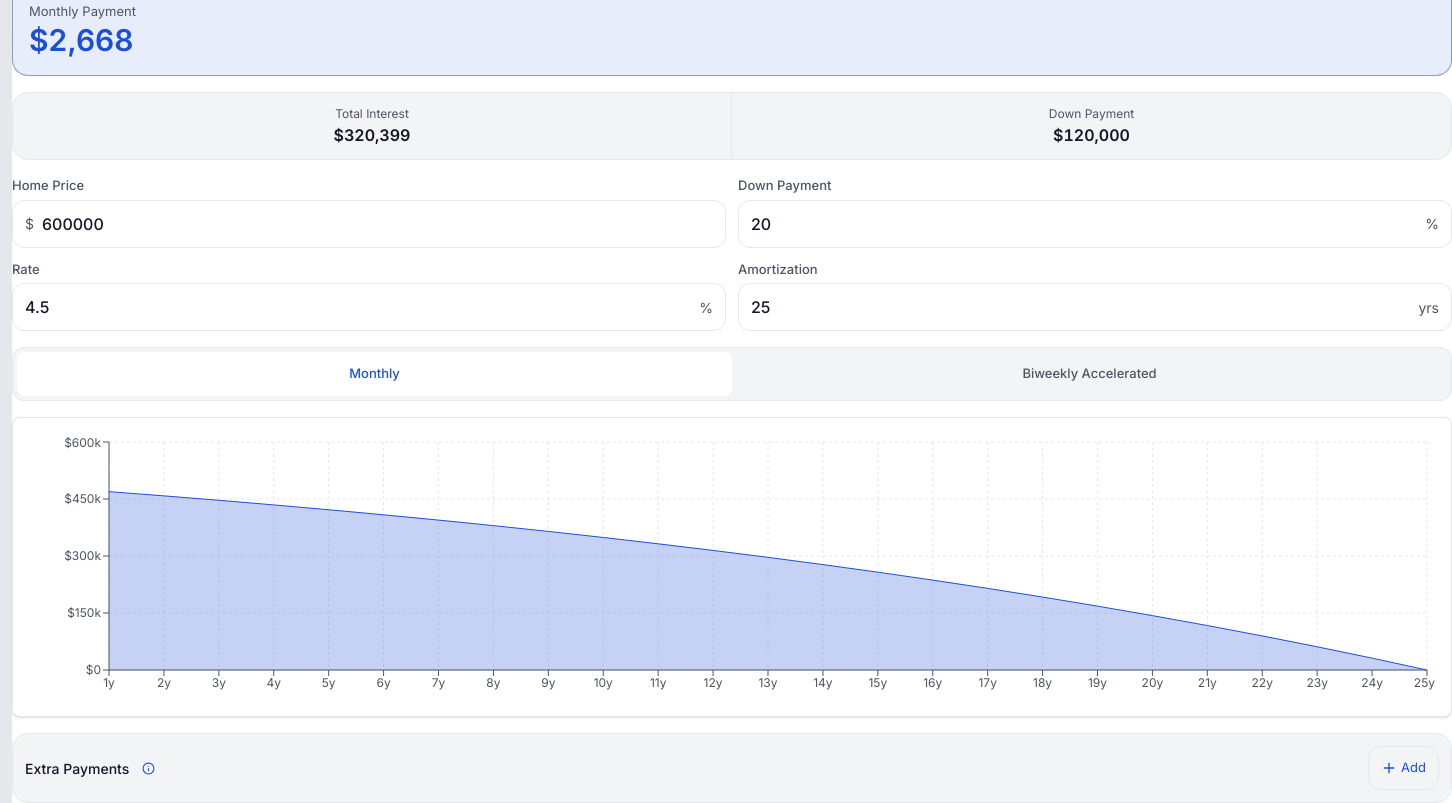
Test: adds and removes an extra payment and shows what it saves
The image size is (1452, 803).
(page scrolled)
Click the button "Add". click: x=1404, y=768
box: top-left (1368, 746), bottom-right (1439, 790)
(page scrolled)
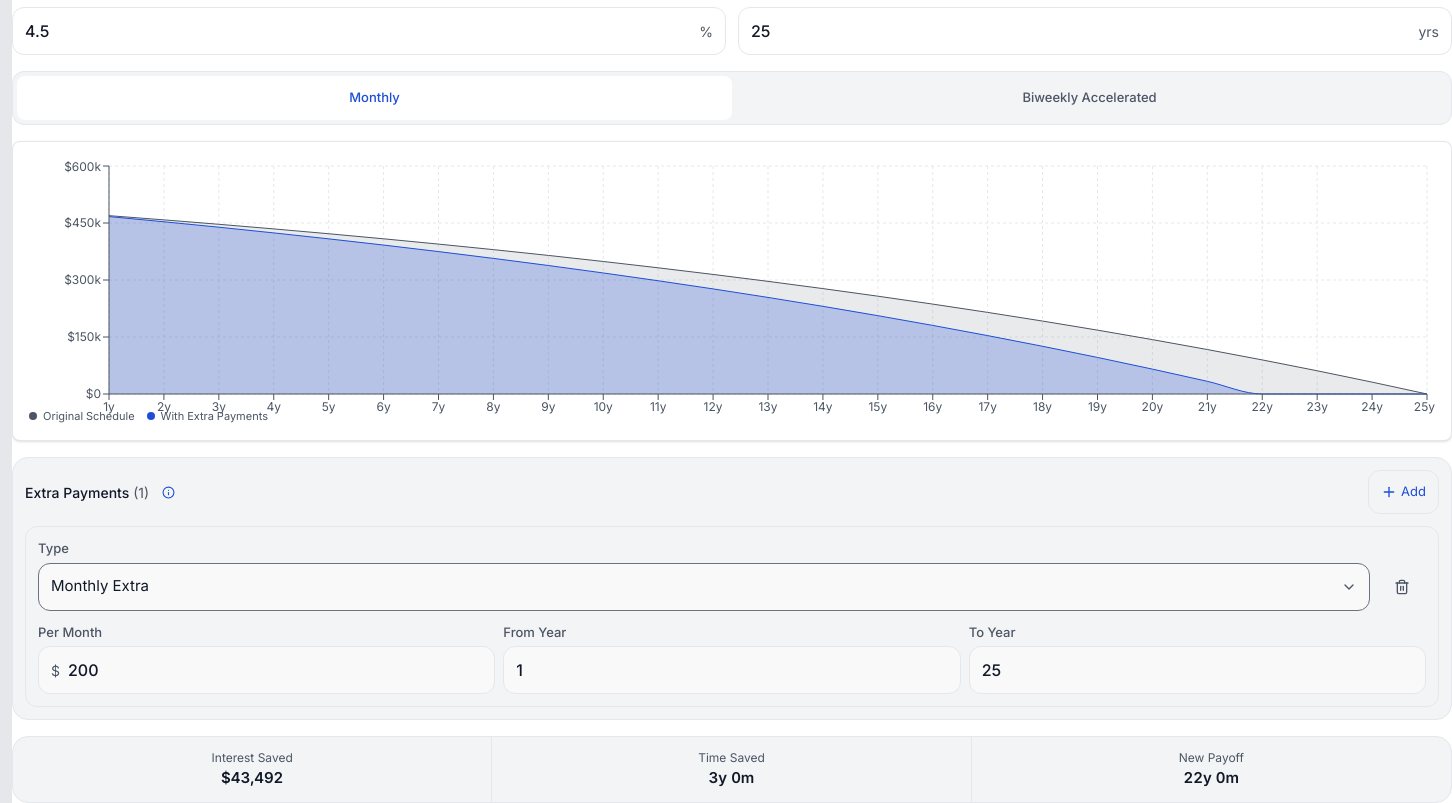
Check: the text "Extra Payments" shows "(1)", box top-left (25, 482), bottom-right (149, 502)
Check: the text "Interest Saved" is shown, box top-left (212, 750), bottom-right (293, 765)
Click the button named "Remove extra payment". click: x=1402, y=586
box: top-left (1378, 562), bottom-right (1426, 610)
(page scrolled)
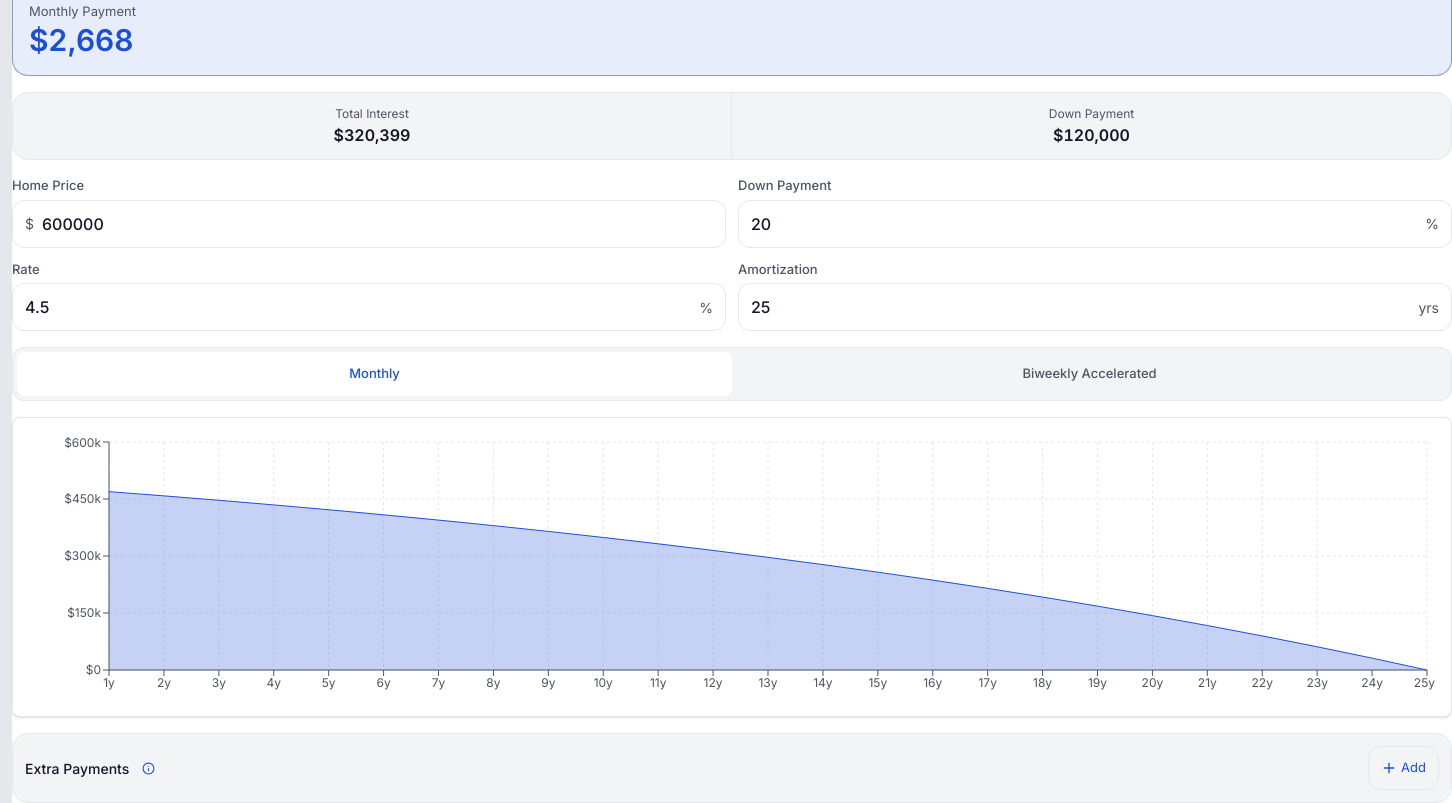
Check: the text "Interest Saved" is gone
